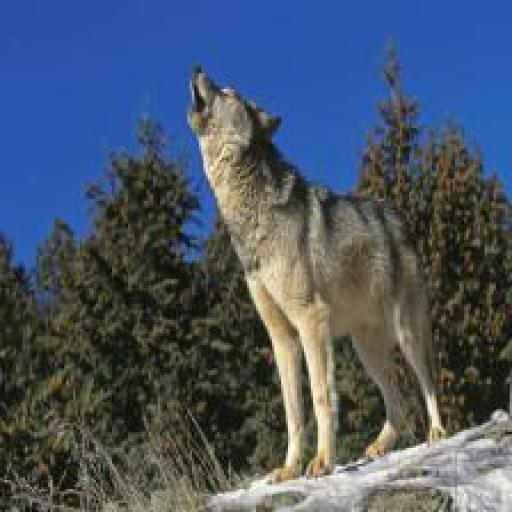wolf: (153, 27, 511, 512)
